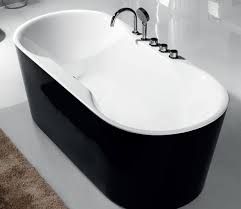bathub: (13, 6, 231, 209)
